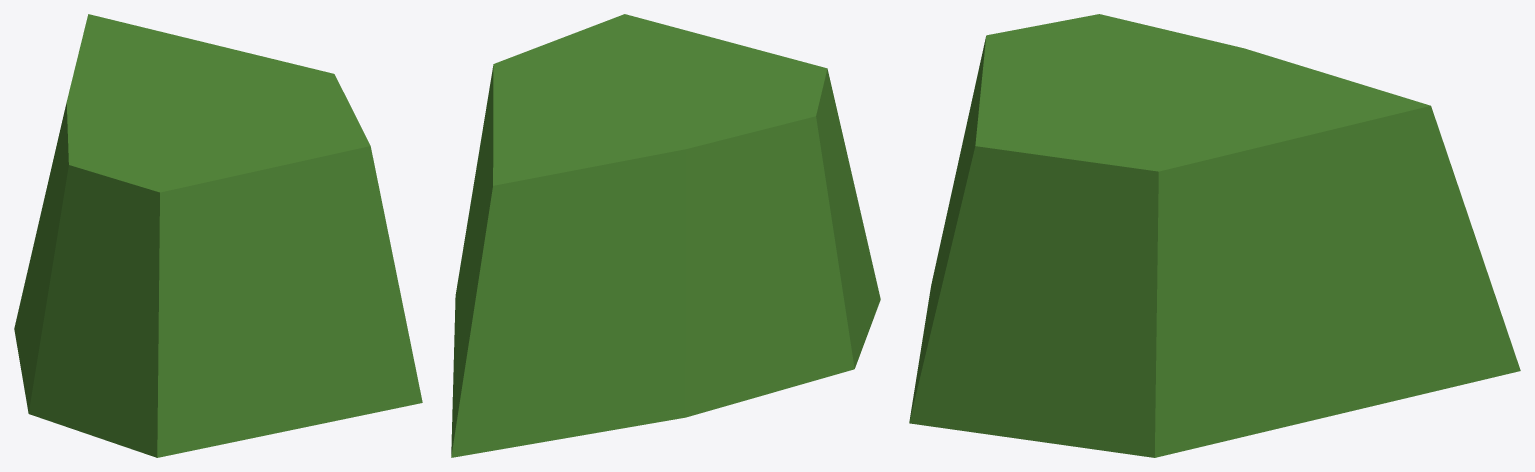
Rendered from grass_layer_crumb_spec_B.fbx.
3 renders of one model, left to right at view 1: azimuth 30°, elevation 25°; view 2: azimuth 150°, elevation 25°; view 3: azimuth 270°, elevation 25°, orthographic. The views are drawn at different scales.
Visible parts, largest first — view 1: grass_layer_crumb_spec_B; view 2: grass_layer_crumb_spec_B; view 3: grass_layer_crumb_spec_B.
Part boxes in pixels (x1,y1,x2,y2): grass_layer_crumb_spec_B: (14,14,422,457); grass_layer_crumb_spec_B: (451,14,880,457); grass_layer_crumb_spec_B: (909,14,1520,457).
Bounding box in the file's own units: 25.6 × 15.85 × 33.1.
